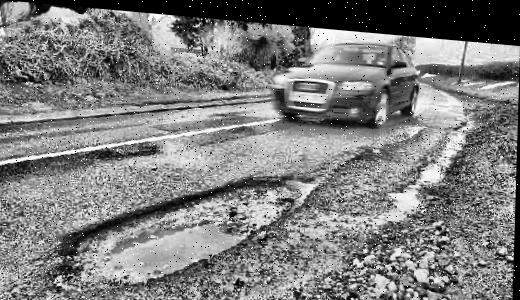pothole: (60, 154, 319, 294)
